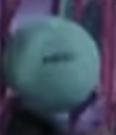algae: (4, 14, 101, 115), (59, 0, 101, 35)
